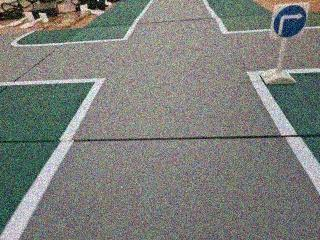right: (270, 3, 309, 38)
